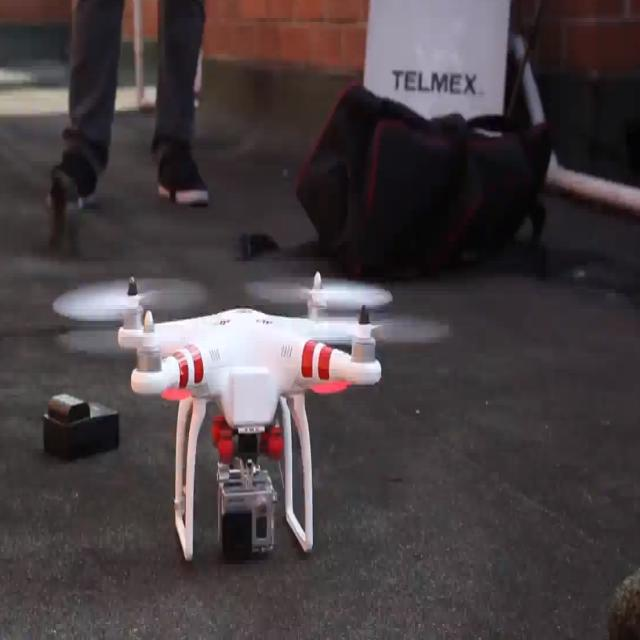drone: (49, 267, 461, 574)
